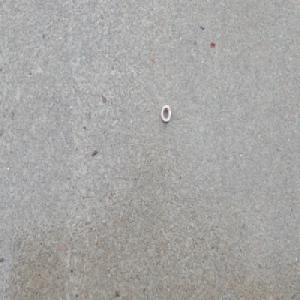Nut: (161, 103, 172, 123)
